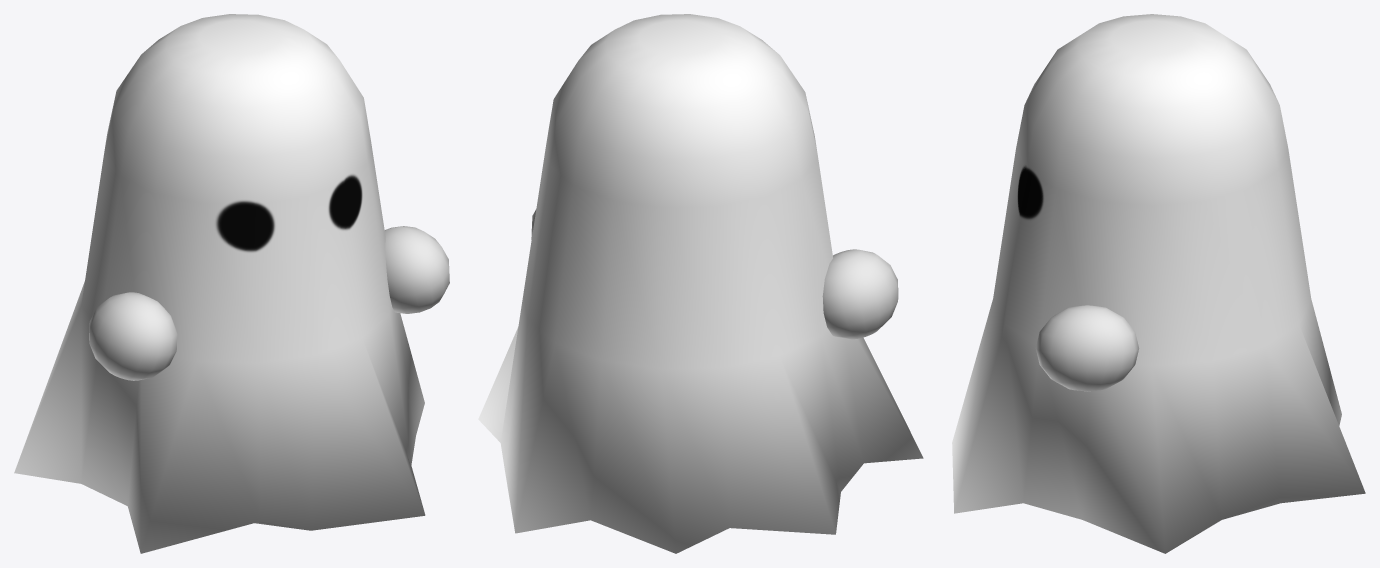
The model's file is Ghost.glb.
The picture shows the model from 3 angles, left to right: view 1: azimuth 30°, elevation 25°; view 2: azimuth 150°, elevation 25°; view 3: azimuth 270°, elevation 25°; orthographic projection.
Visible parts, largest first — view 1: Cylinder; view 2: Cylinder; view 3: Cylinder.
Part boxes in pixels (bbox=[...]): Cylinder: bbox=[14, 14, 449, 553]; Cylinder: bbox=[478, 14, 923, 553]; Cylinder: bbox=[952, 14, 1365, 553].
Bounding box in the file's own units: 1.74 × 1.87 × 1.62.
2 materials, 1 textured.
